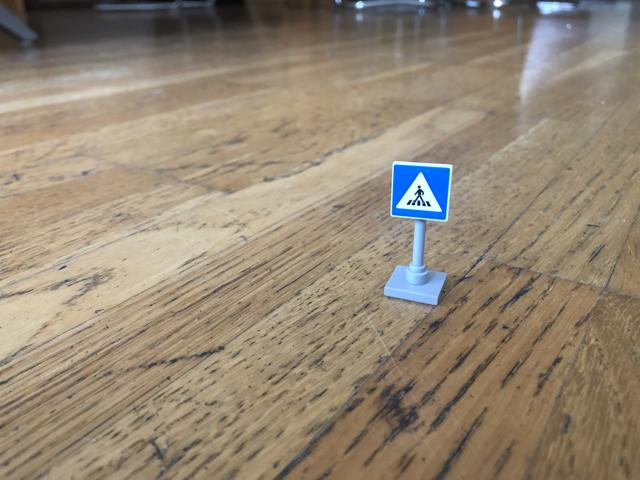fußgängerüberweg: (387, 160, 455, 224)
